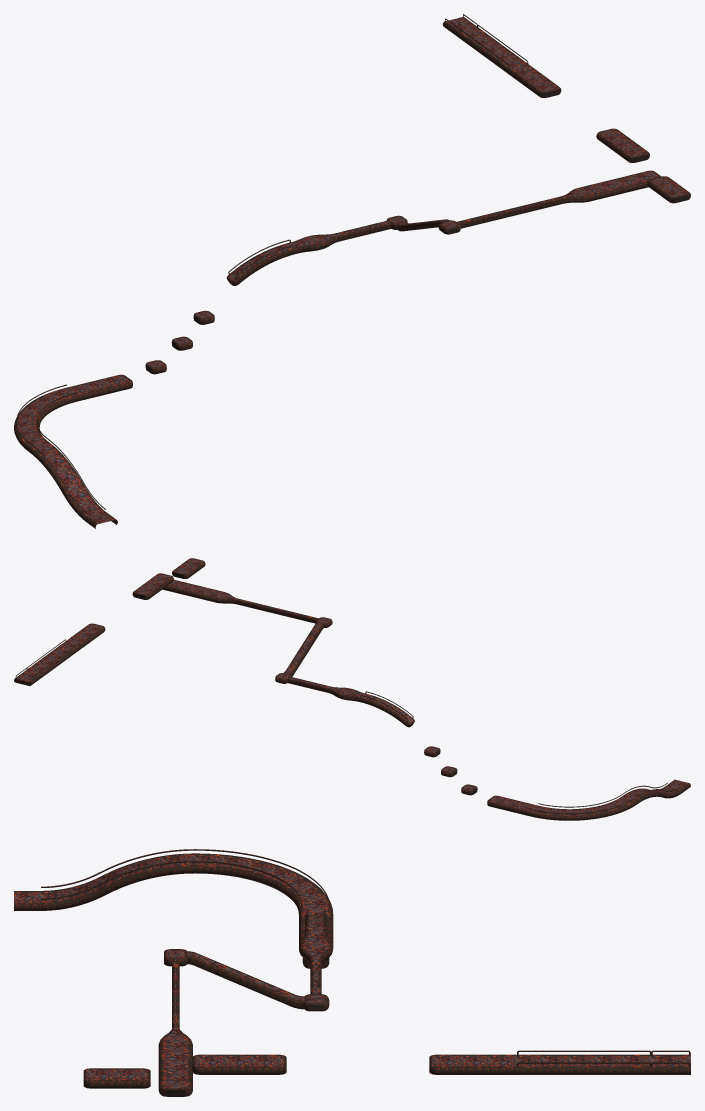
The model's file is map41.fbx.
3 views of the same model, one above another, from view 1: azimuth 30°, elevation 25°; view 2: azimuth 150°, elevation 25°; view 3: azimuth 270°, elevation 25° (orthographic). The views are drawn at different scales.
Parts seen in each view (by area): view 1: Dummy_Start_1; view 2: Dummy_Start_1; view 3: Dummy_Start_1.
Boxes of the visible parts, bbox=[...] form: Dummy_Start_1: bbox=[14, 14, 690, 528]; Dummy_Start_1: bbox=[14, 558, 690, 820]; Dummy_Start_1: bbox=[14, 849, 690, 1096].
Bounding box in the file's own units: 14294 × 3933 × 10086.
Materials: 7 (7 with a texture image).
